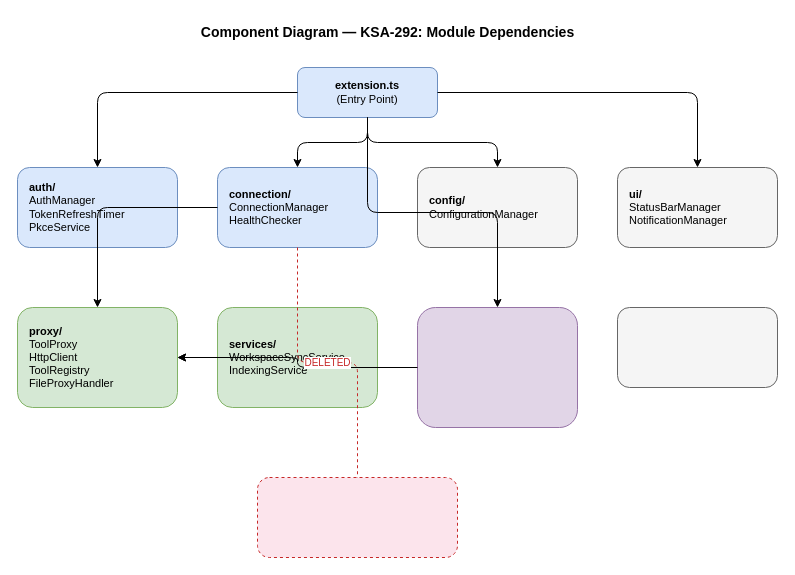
Some shapes in this 795 by 575 pixel diagram are drawn without their labels. Here are the shapes that lost their labels. From the top down, the box of each, then its label:
(416, 306, 578, 428): webview/ WebviewManager ChatPanel LoginPanel McpConfigPanel RemoteConfigPanel
(616, 306, 778, 388): types/ config.ts connection.ts
(256, 476, 458, 558): REMOVED BackendProcess.ts providers/ (9 files) message-handler/
